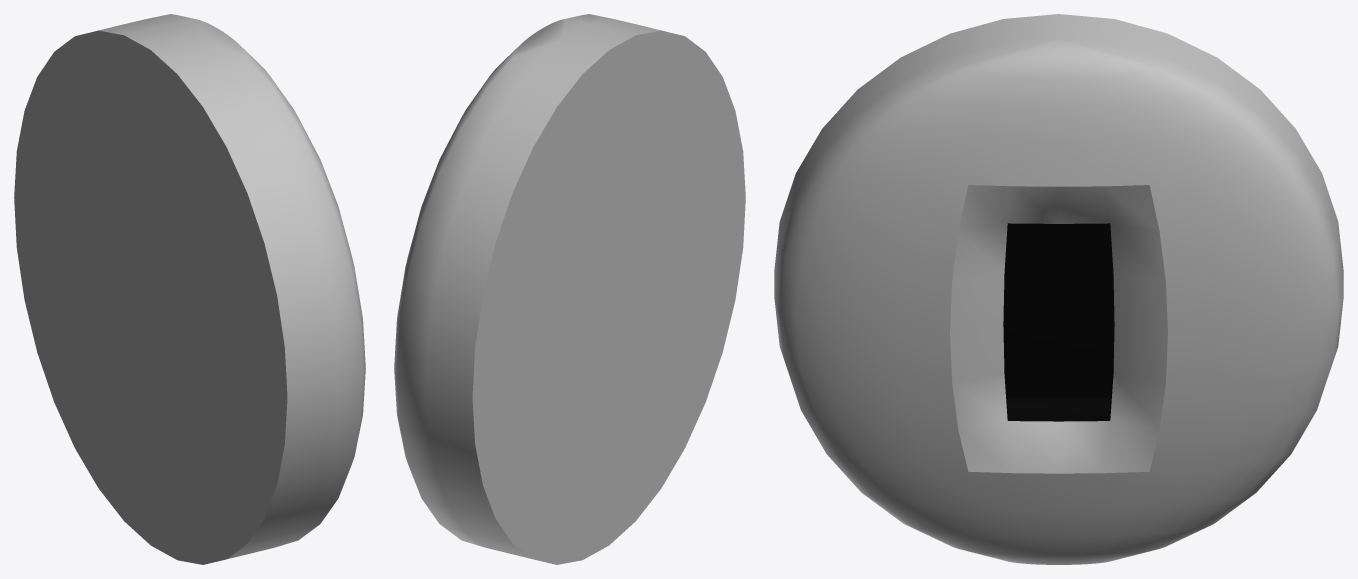
File: Lock.fbx
3 views of the same model, side by side, from view 1: azimuth 30°, elevation 25°; view 2: azimuth 150°, elevation 25°; view 3: azimuth 270°, elevation 25° (orthographic). The views are drawn at different scales.
Parts seen in each view (by area): view 1: Sphere; view 2: Sphere; view 3: Sphere.
Boxes of the visible parts, x1,y1,x2,y2 form: Sphere: [14, 14, 365, 564]; Sphere: [394, 14, 745, 564]; Sphere: [774, 14, 1343, 564].
Size of the model in its own units: 50.5 by 200 by 200.
